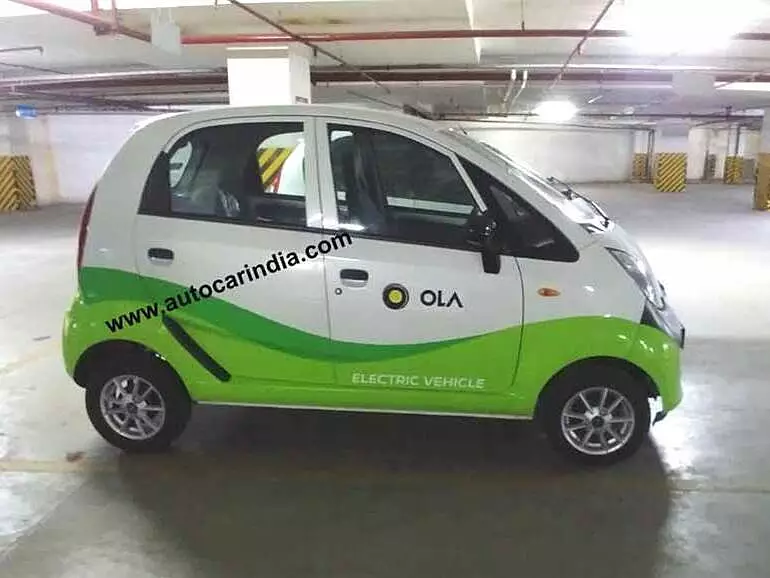Nano: (66, 97, 688, 460)
